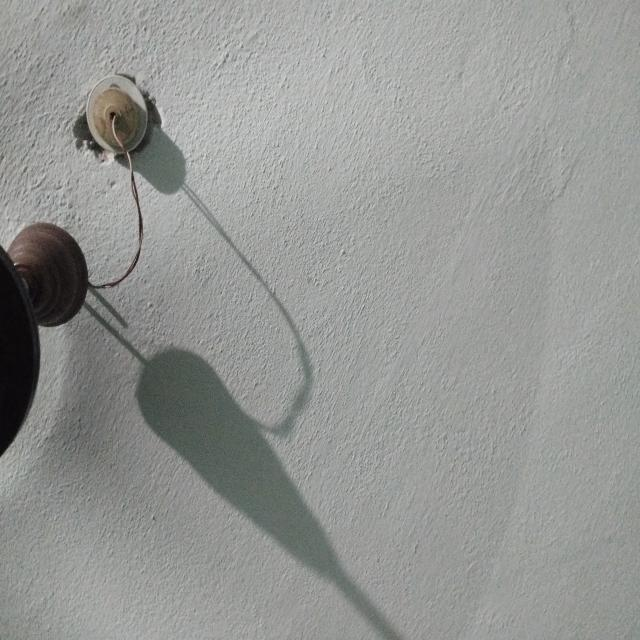fan_on: (0, 2, 551, 640)
